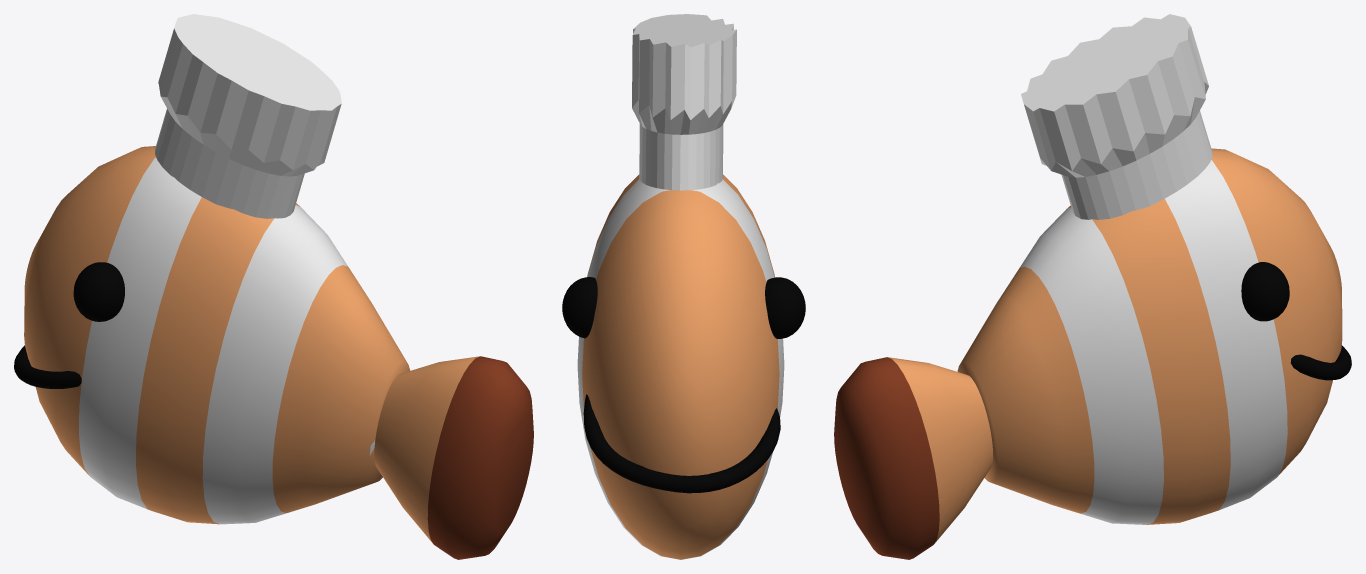
File: fish_roc.glb
The picture shows the model from 3 angles, left to right: view 1: azimuth 30°, elevation 25°; view 2: azimuth 150°, elevation 25°; view 3: azimuth 270°, elevation 25°; orthographic projection.
Visible parts, largest first — view 1: Circle, Circle.003, Circle.001, Sphere.002, mouth.001; view 2: Circle, Circle.003, mouth.001, Sphere.002, Sphere.004; view 3: Circle, Circle.003, Circle.001, Sphere.004, mouth.001.
Boxes of the visible parts, x1,y1,x2,y2 form: Circle: [24, 146, 410, 524]; Circle.003: [155, 14, 341, 218]; Circle.001: [374, 356, 533, 559]; Sphere.002: [73, 262, 124, 321]; mouth.001: [14, 345, 81, 388]; Circle: [577, 174, 784, 559]; Circle.003: [632, 14, 736, 190]; mouth.001: [583, 394, 780, 493]; Sphere.002: [765, 277, 805, 338]; Sphere.004: [562, 277, 597, 338]; Circle: [957, 148, 1342, 524]; Circle.003: [1021, 14, 1212, 219]; Circle.001: [834, 357, 992, 559]; Sphere.004: [1241, 262, 1289, 321]; mouth.001: [1290, 345, 1351, 380].
Size of the model in its own units: 0.6087 by 0.9132 by 0.8644.
